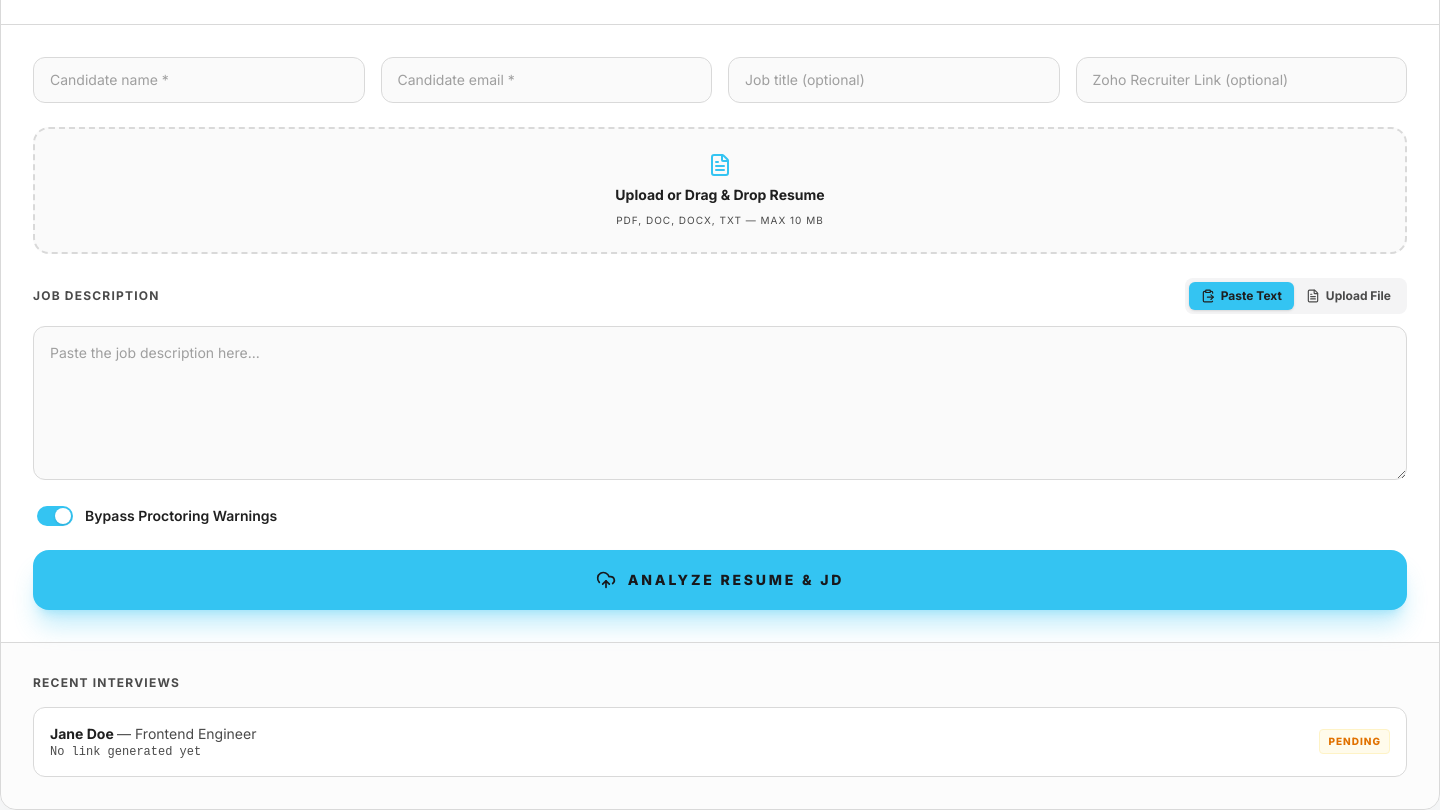
Test: AIInterviewManager › opens a link + passcode popup when a recent interview name is clicked, and closes it
(page scrolled)
Click the button "Jane Doe — Frontend Engineer". click: click(153, 734)
box: [50,724,256,744]
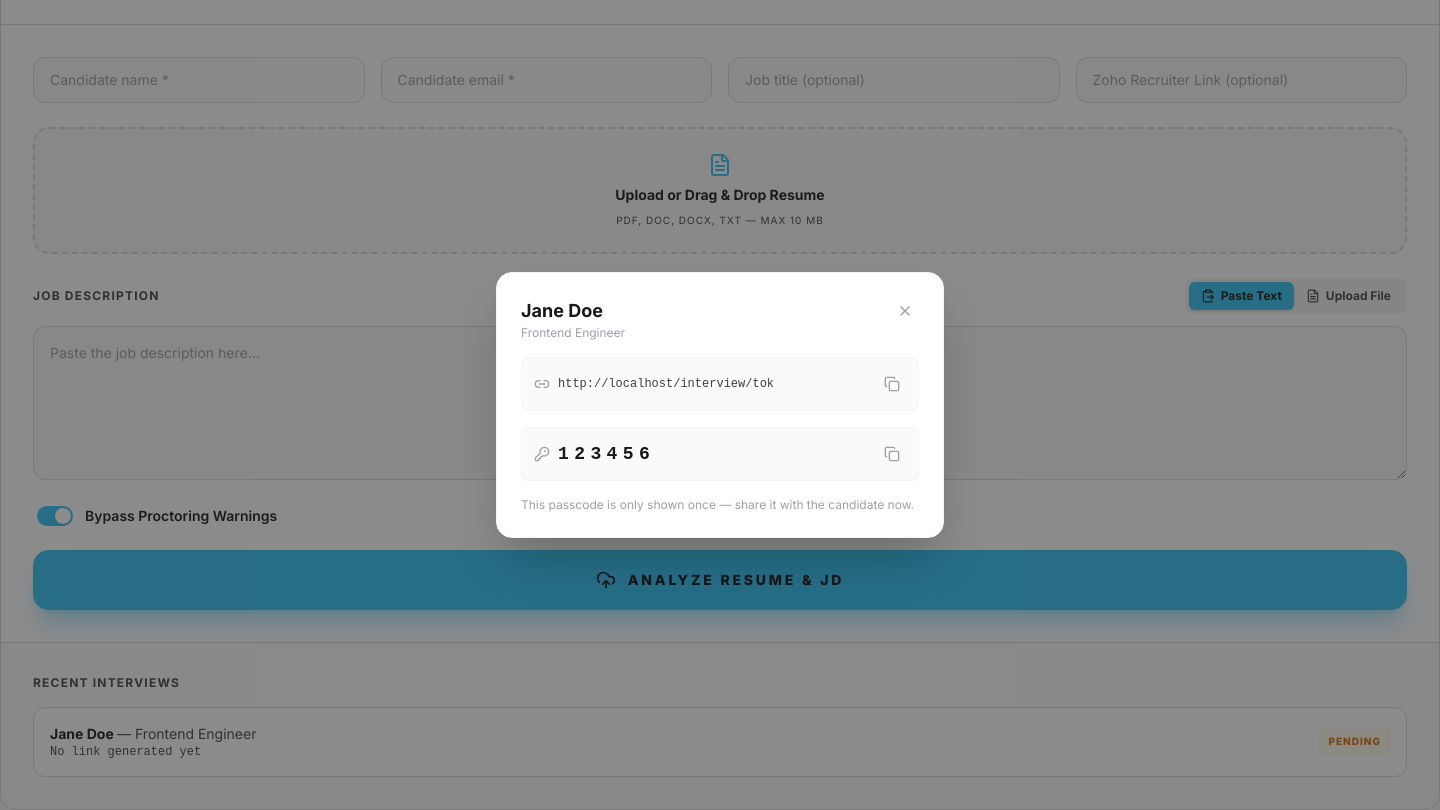
Check: the text "123456" is shown, box [558,444,655,464]
Check: the text "http://localhost/interview/tok" is shown, box [558,377,774,391]
Click the button with id "interview-link-modal-close". click: click(905, 311)
box: [891,297,919,325]
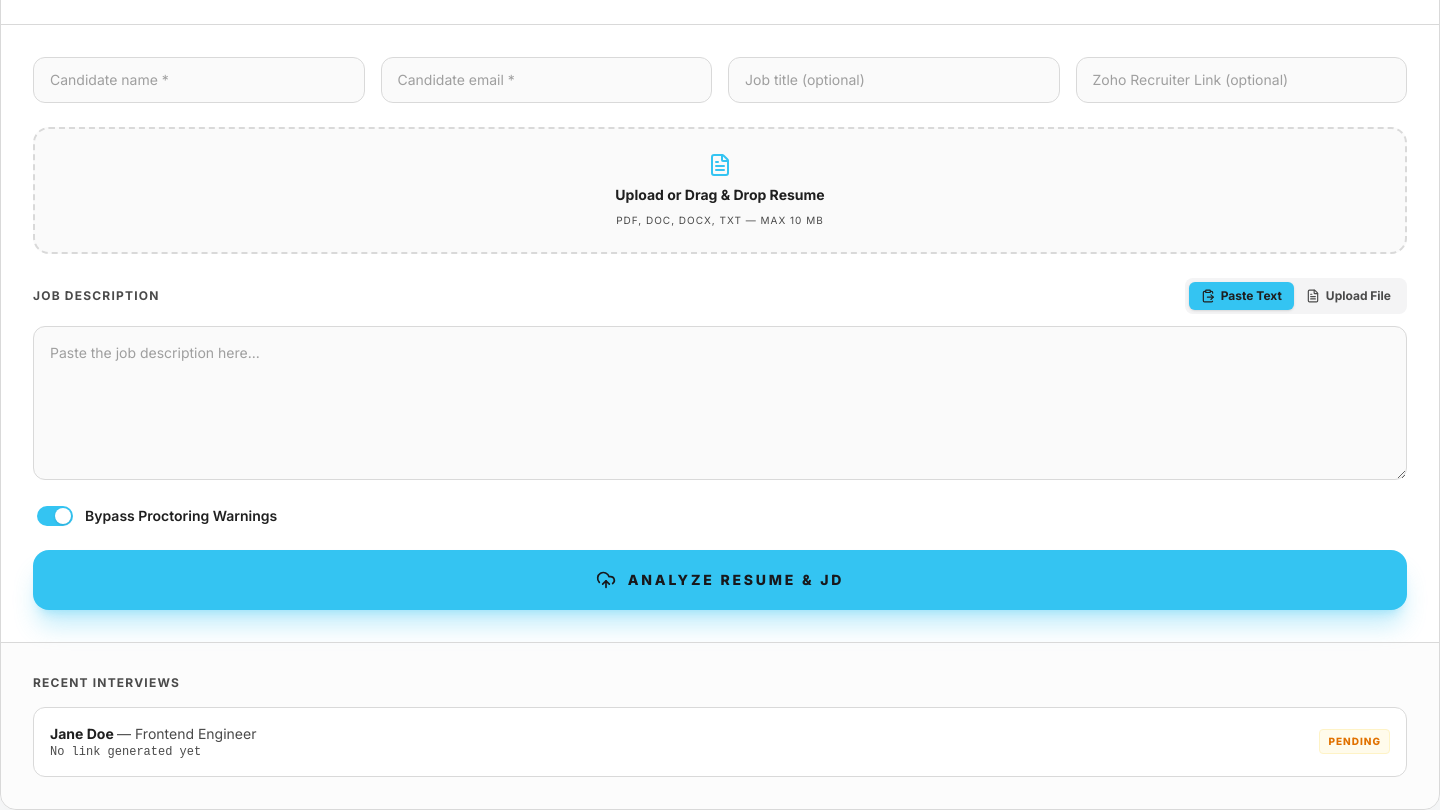
Check: the text "123456" is gone
